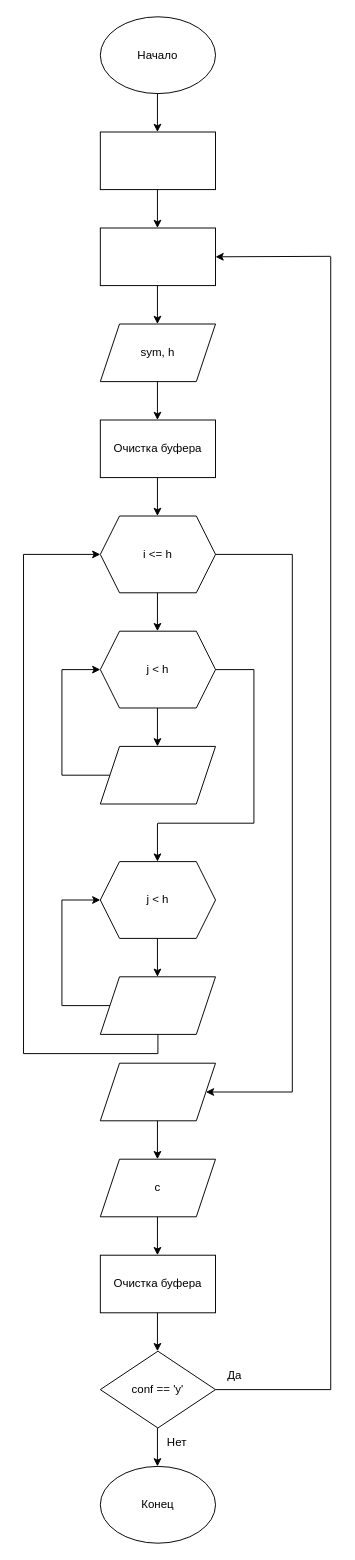
This 355x1560 diagram has some shape labels left out. Here are the shapes that lost their labels. From the top down, the centre of each, then its label:
At (157,160): "char".
At (157,256): "sym, h, c".
At (157,774): "Пробел".
At (157,1005): "sym".
At (157,1091): "Повторить?".
